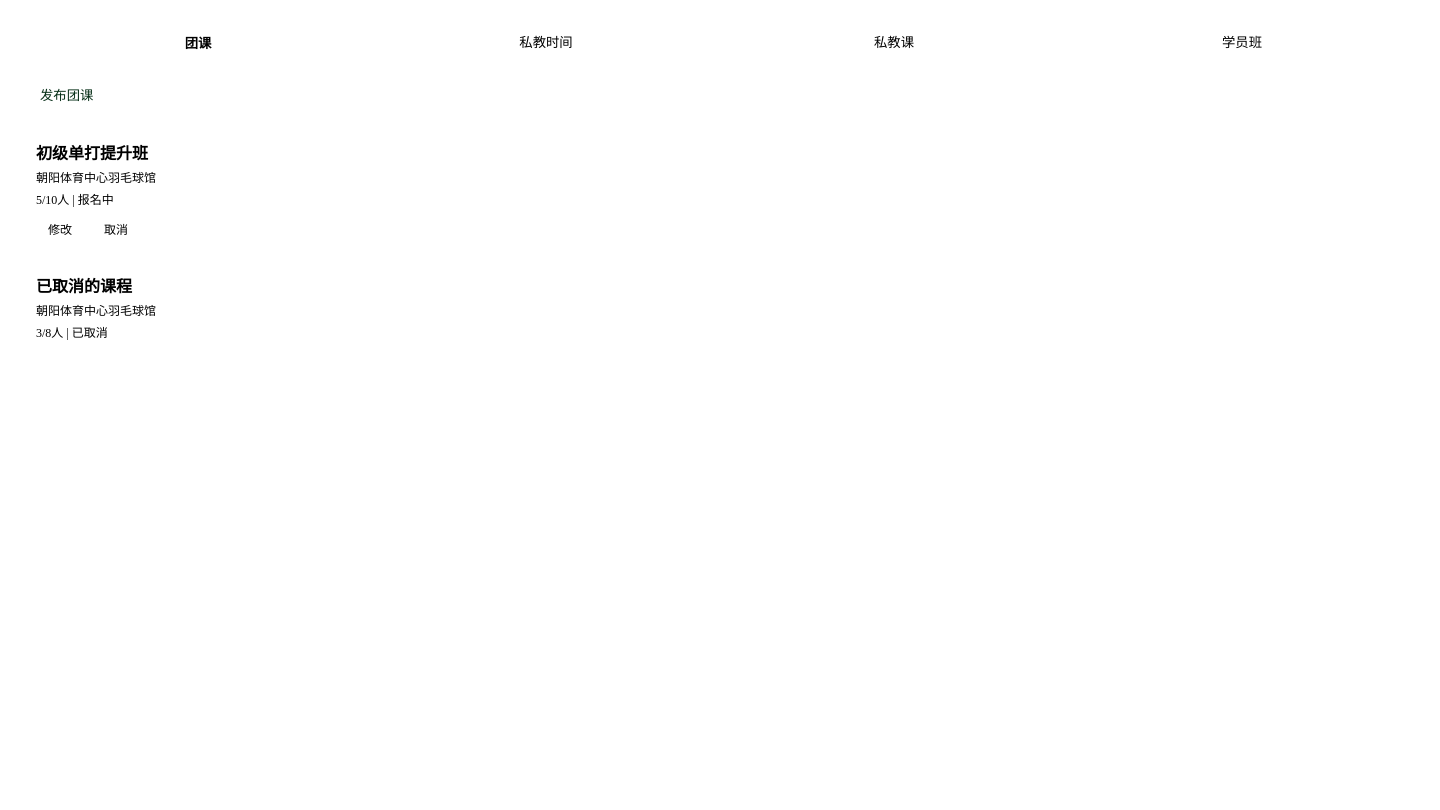
Test: MyCourseManagementPage › should open create group class modal when button is clicked
Click the button "发布团课" at (67, 94), box [24,77,109,112]
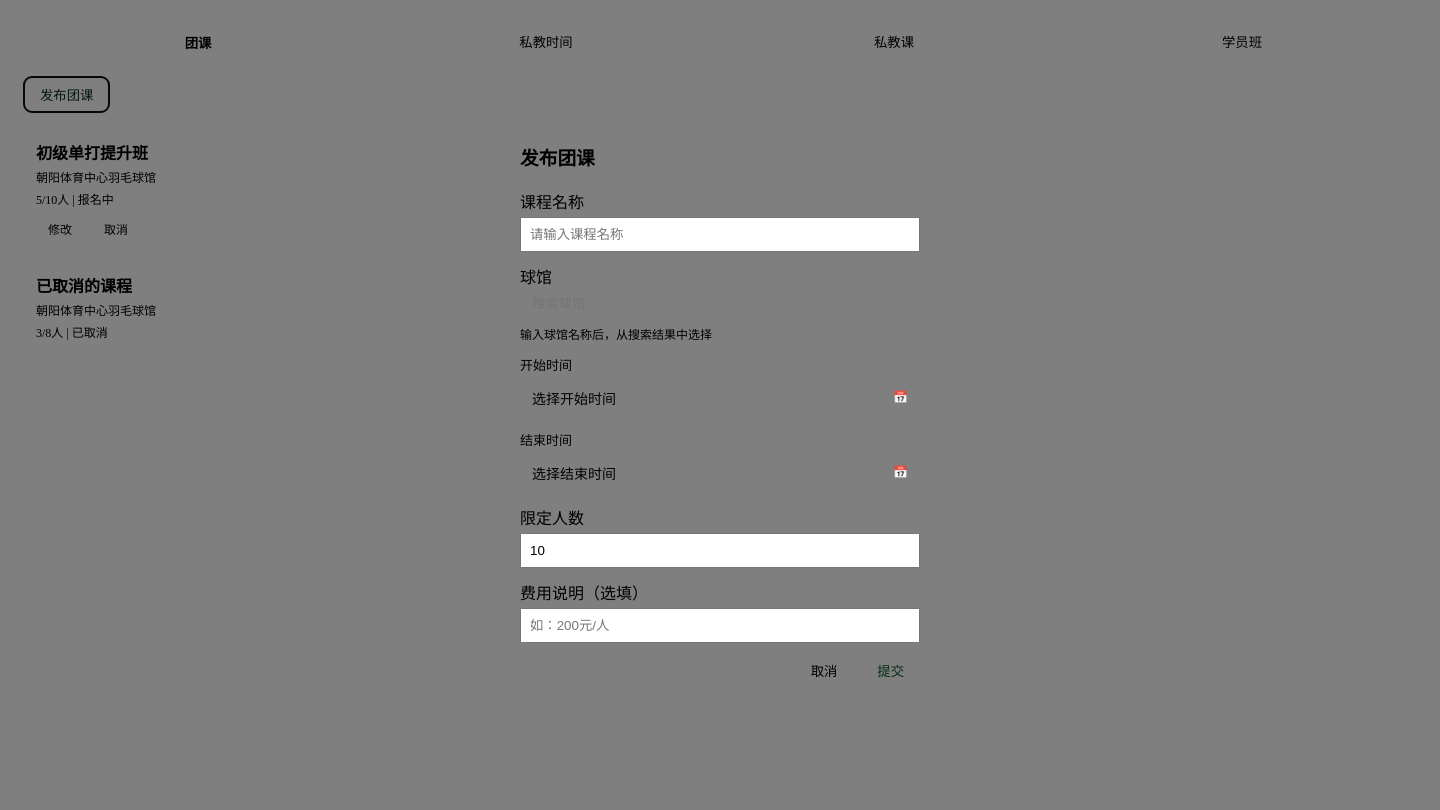
Check: the text "课程名称" is shown, box [520,194,584,211]
